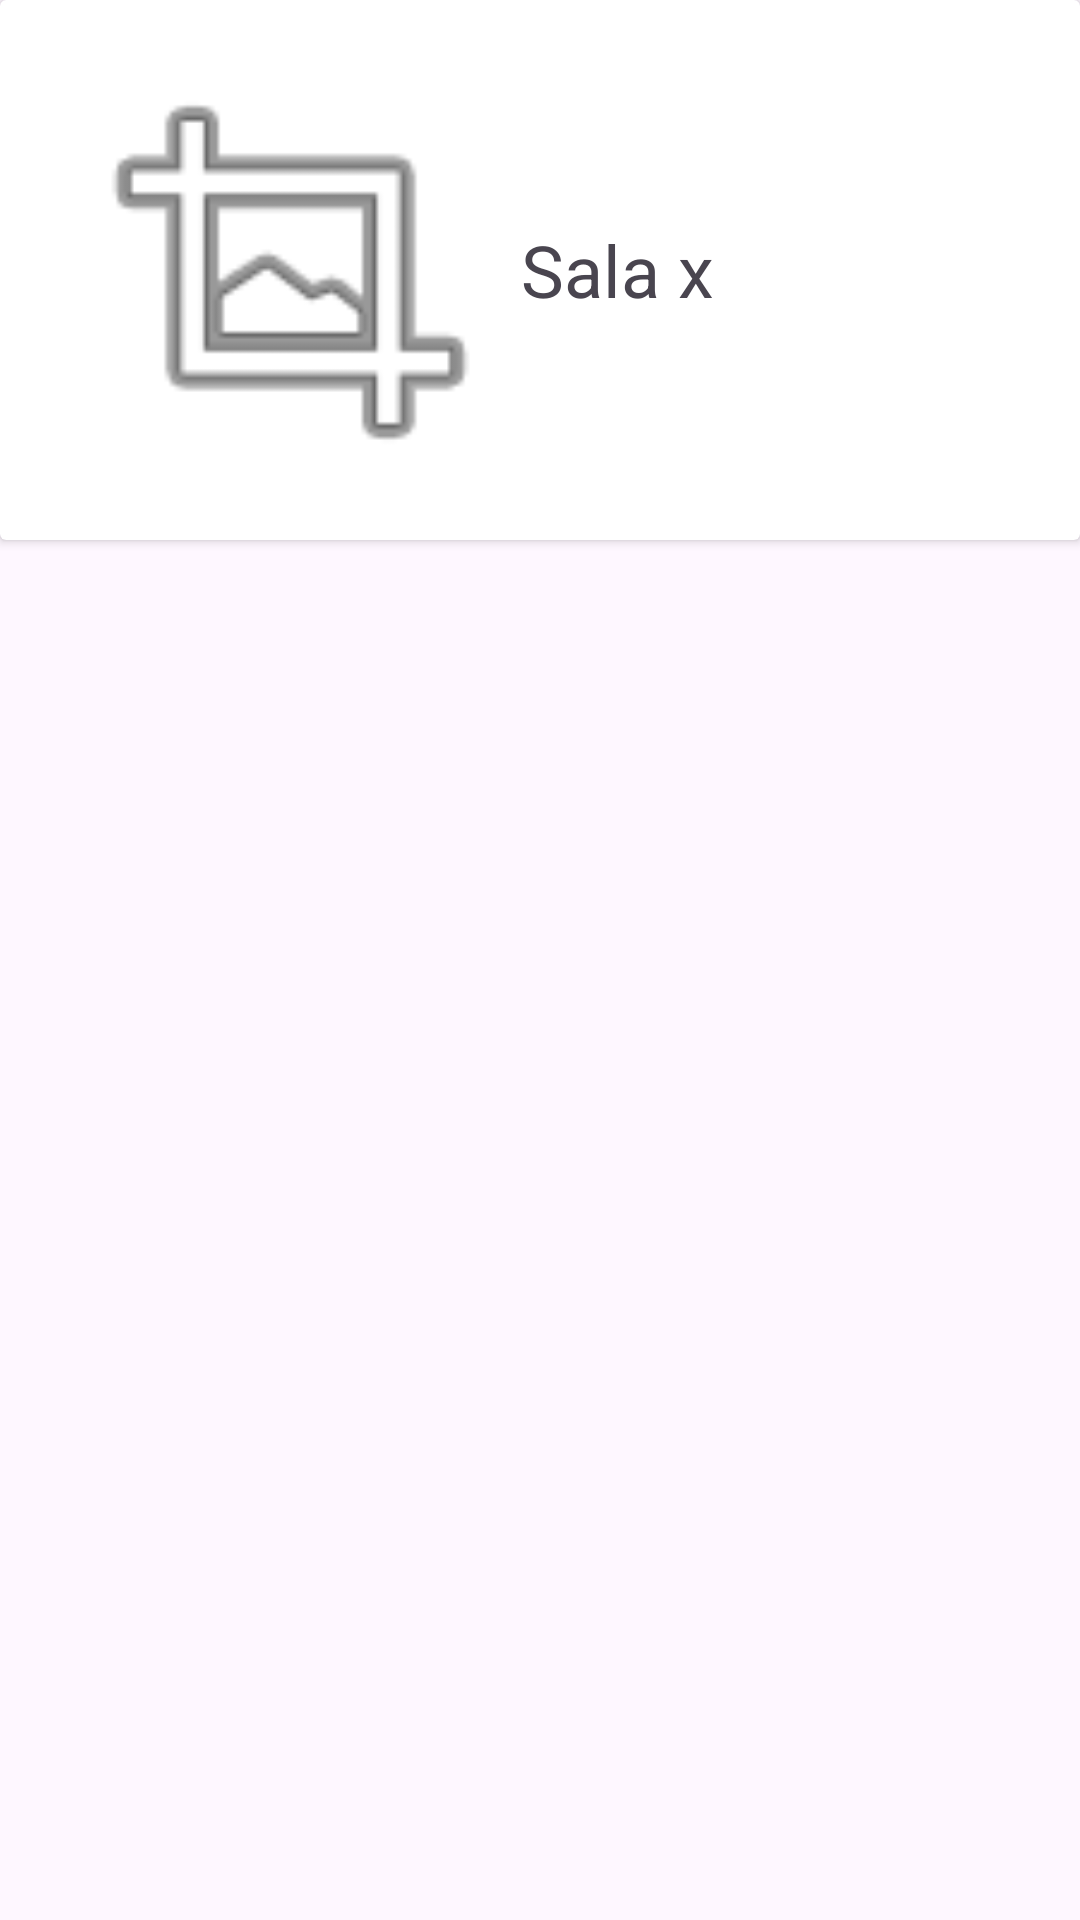

Point at icon controls on the screen. Image size 1080px×1920px, points as (x,y).
crop: (290,272)
